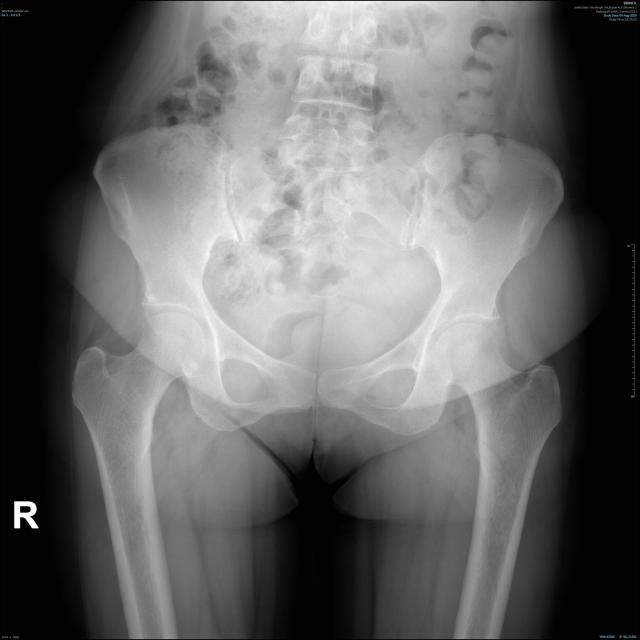normal-left: (434, 322, 562, 525)
normal-right: (72, 311, 206, 502)
